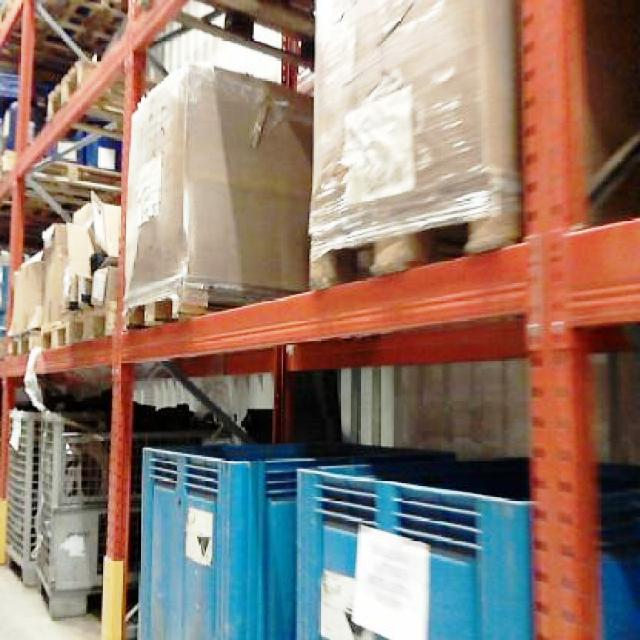pallet: (134, 440, 638, 638), (291, 465, 534, 638)
